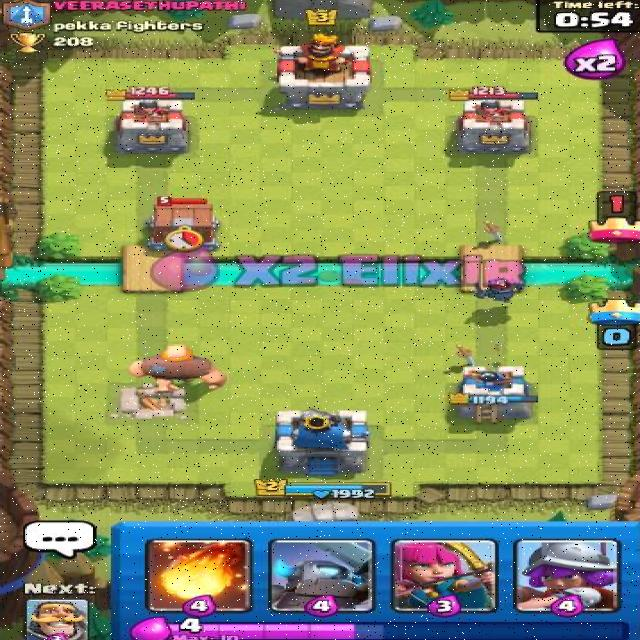Enemy-GoblinCage: (140, 194, 226, 255)
Enemy-MiniPEKKA: (470, 277, 528, 306)
Player-Giant: (129, 342, 229, 395)
